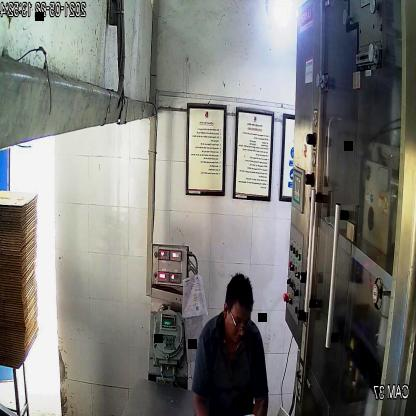goggles: (226, 309, 255, 334)
